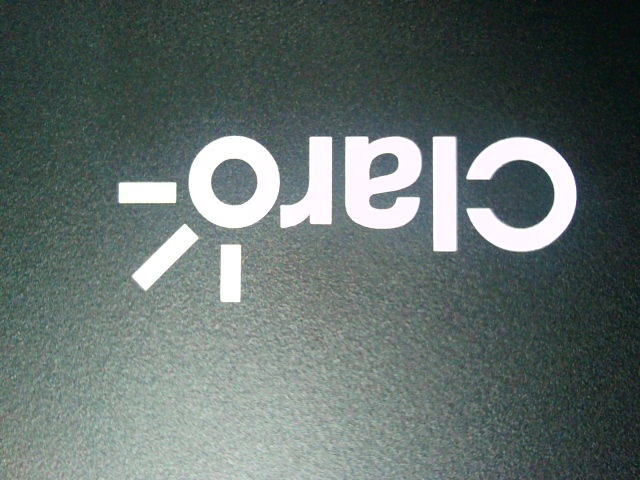BC_Claor: (102, 122, 582, 306)
